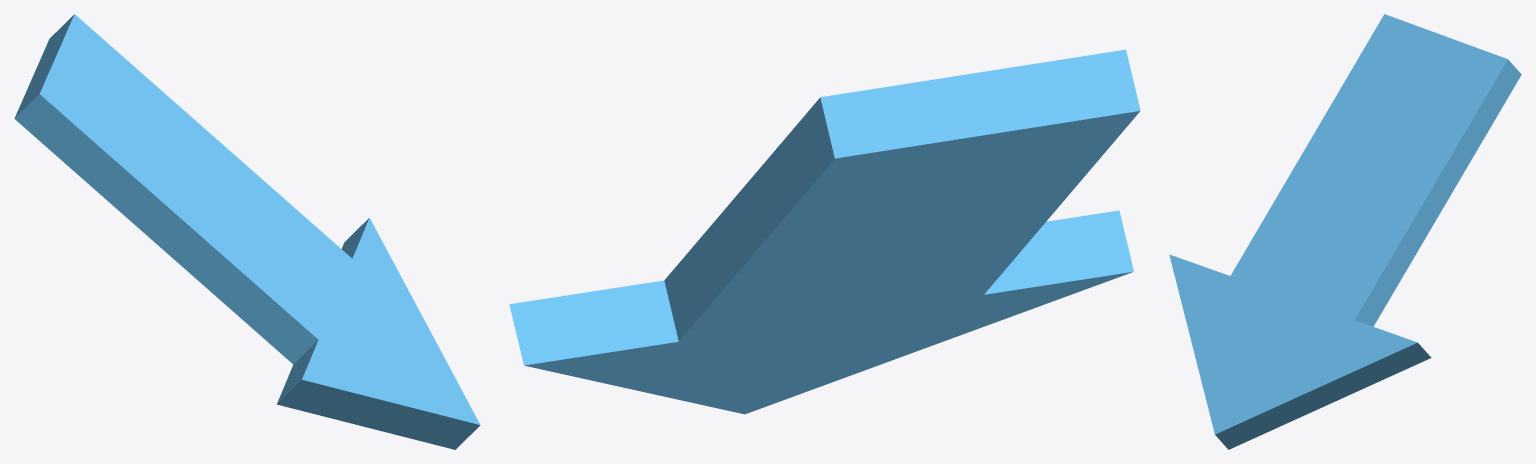
The model's file is ArrowSouthEast.gltf.
The picture shows the model from 3 angles, left to right: view 1: azimuth 30°, elevation 25°; view 2: azimuth 150°, elevation 25°; view 3: azimuth 270°, elevation 25°; orthographic projection. The views are drawn at different scales.
Parts seen in each view (by area): view 1: Arrow; view 2: Arrow; view 3: Arrow.
Part boxes in pixels (<box>): Arrow: <box>14,14,480,449</box>; Arrow: <box>509,49,1140,414</box>; Arrow: <box>1169,14,1521,449</box>.
Bounding box in the file's own units: 5.44 × 5.18 × 5.43.
